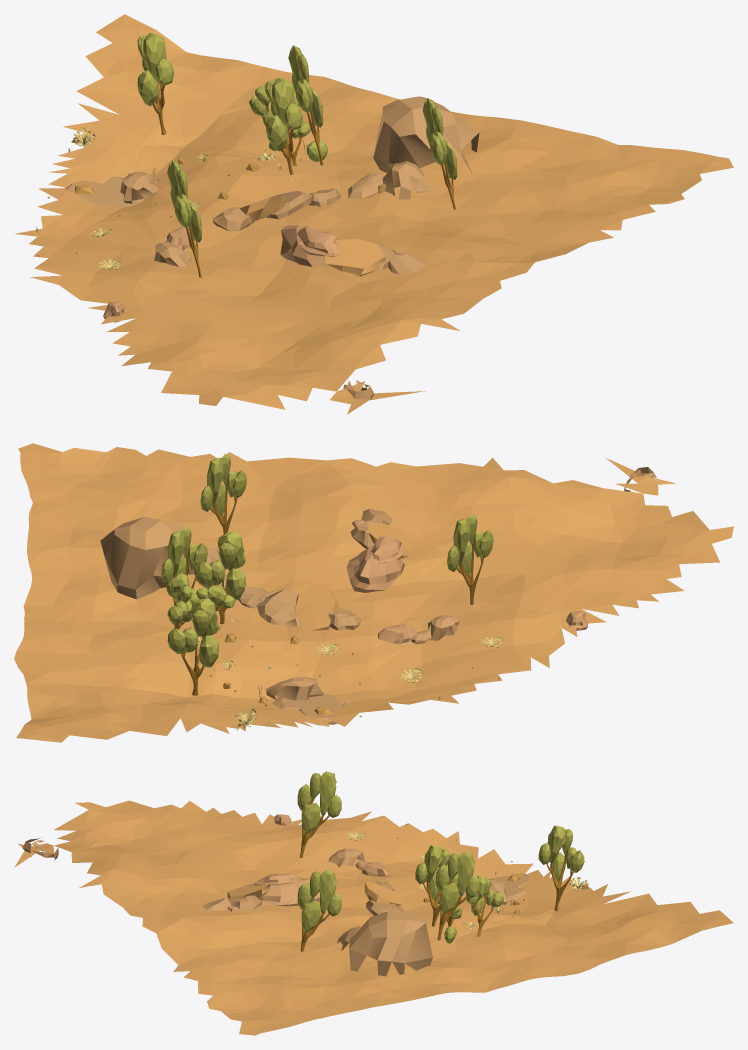
Rendered from world.fbx.
The picture shows the model from 3 angles, top to bottom: view 1: azimuth 30°, elevation 25°; view 2: azimuth 150°, elevation 25°; view 3: azimuth 270°, elevation 25°; orthographic projection. The views are drawn at different scales.
Parts seen in each view (by area): view 1: Rock_4__1_; view 2: Rock_4__1_; view 3: Rock_4__1_.
Boxes of the visible parts, x1,y1,x2,y2 form: Rock_4__1_: [15, 14, 733, 414]; Rock_4__1_: [14, 443, 733, 742]; Rock_4__1_: [14, 771, 733, 1035].
Size of the model in its own units: 7499 by 1541 by 9120.
